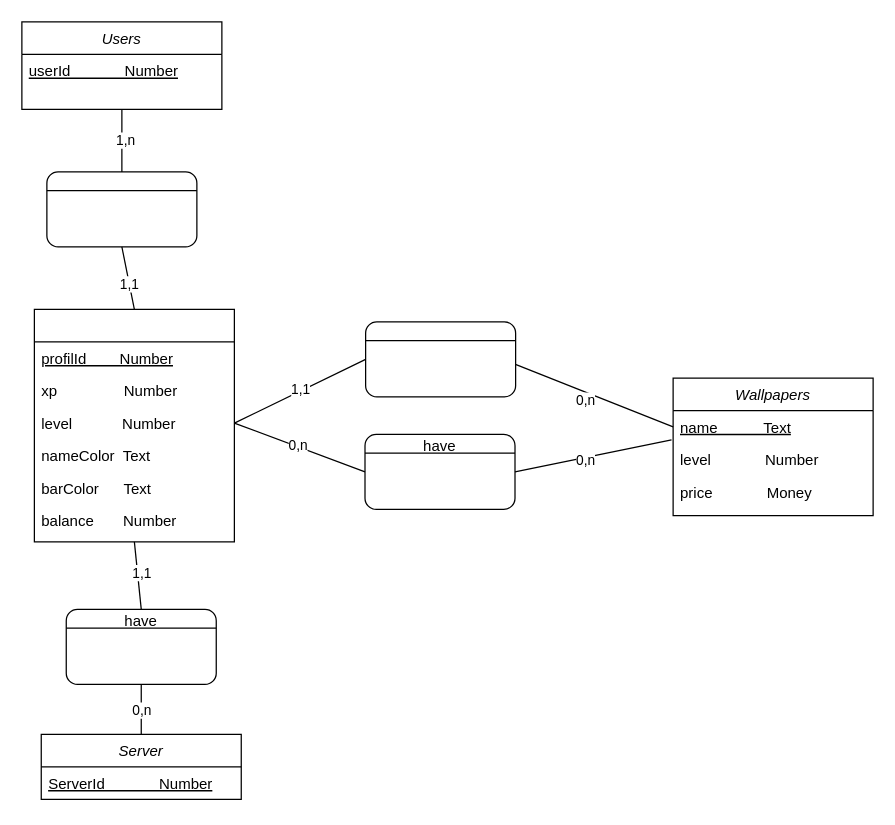
The diagram is 895 pixels wide and 825 high, and some of its shapes have lost their labels. Each missing label, with the box of its shape:
make: (46, 171, 197, 247)
Profils: (33, 308, 234, 542)
set: (364, 321, 516, 397)
